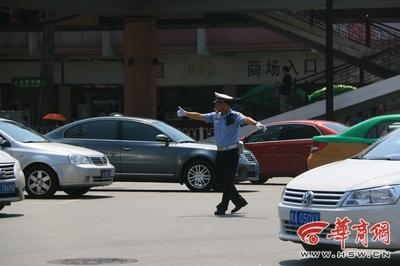up: (175, 90, 260, 222)
